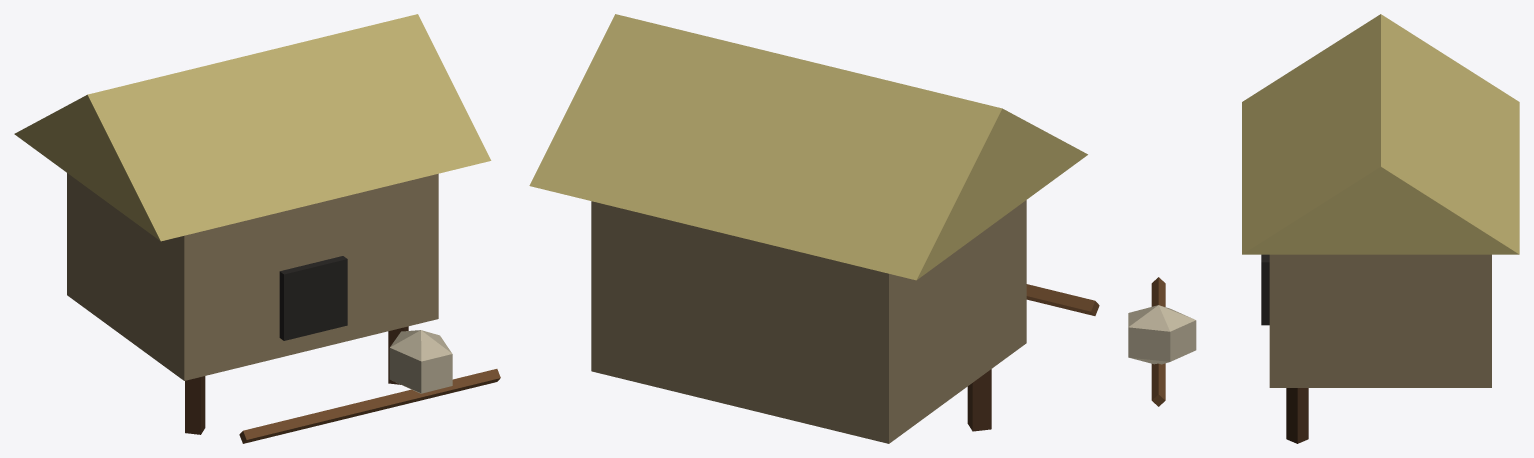
The model's file is a3s_hen_coop.glb.
3 renders of one model, left to right at view 1: azimuth 30°, elevation 25°; view 2: azimuth 150°, elevation 25°; view 3: azimuth 270°, elevation 25°, orthographic. The views are drawn at different scales.
Visible parts, largest first — view 1: a3s_hen_coop; view 2: a3s_hen_coop; view 3: a3s_hen_coop.
Boxes of the visible parts, bbox=[...] form: a3s_hen_coop: bbox=[14, 14, 500, 443]; a3s_hen_coop: bbox=[529, 14, 1099, 443]; a3s_hen_coop: bbox=[1128, 14, 1519, 443].
Bounding box in the file's own units: 1.3 × 1.2 × 1.41.
